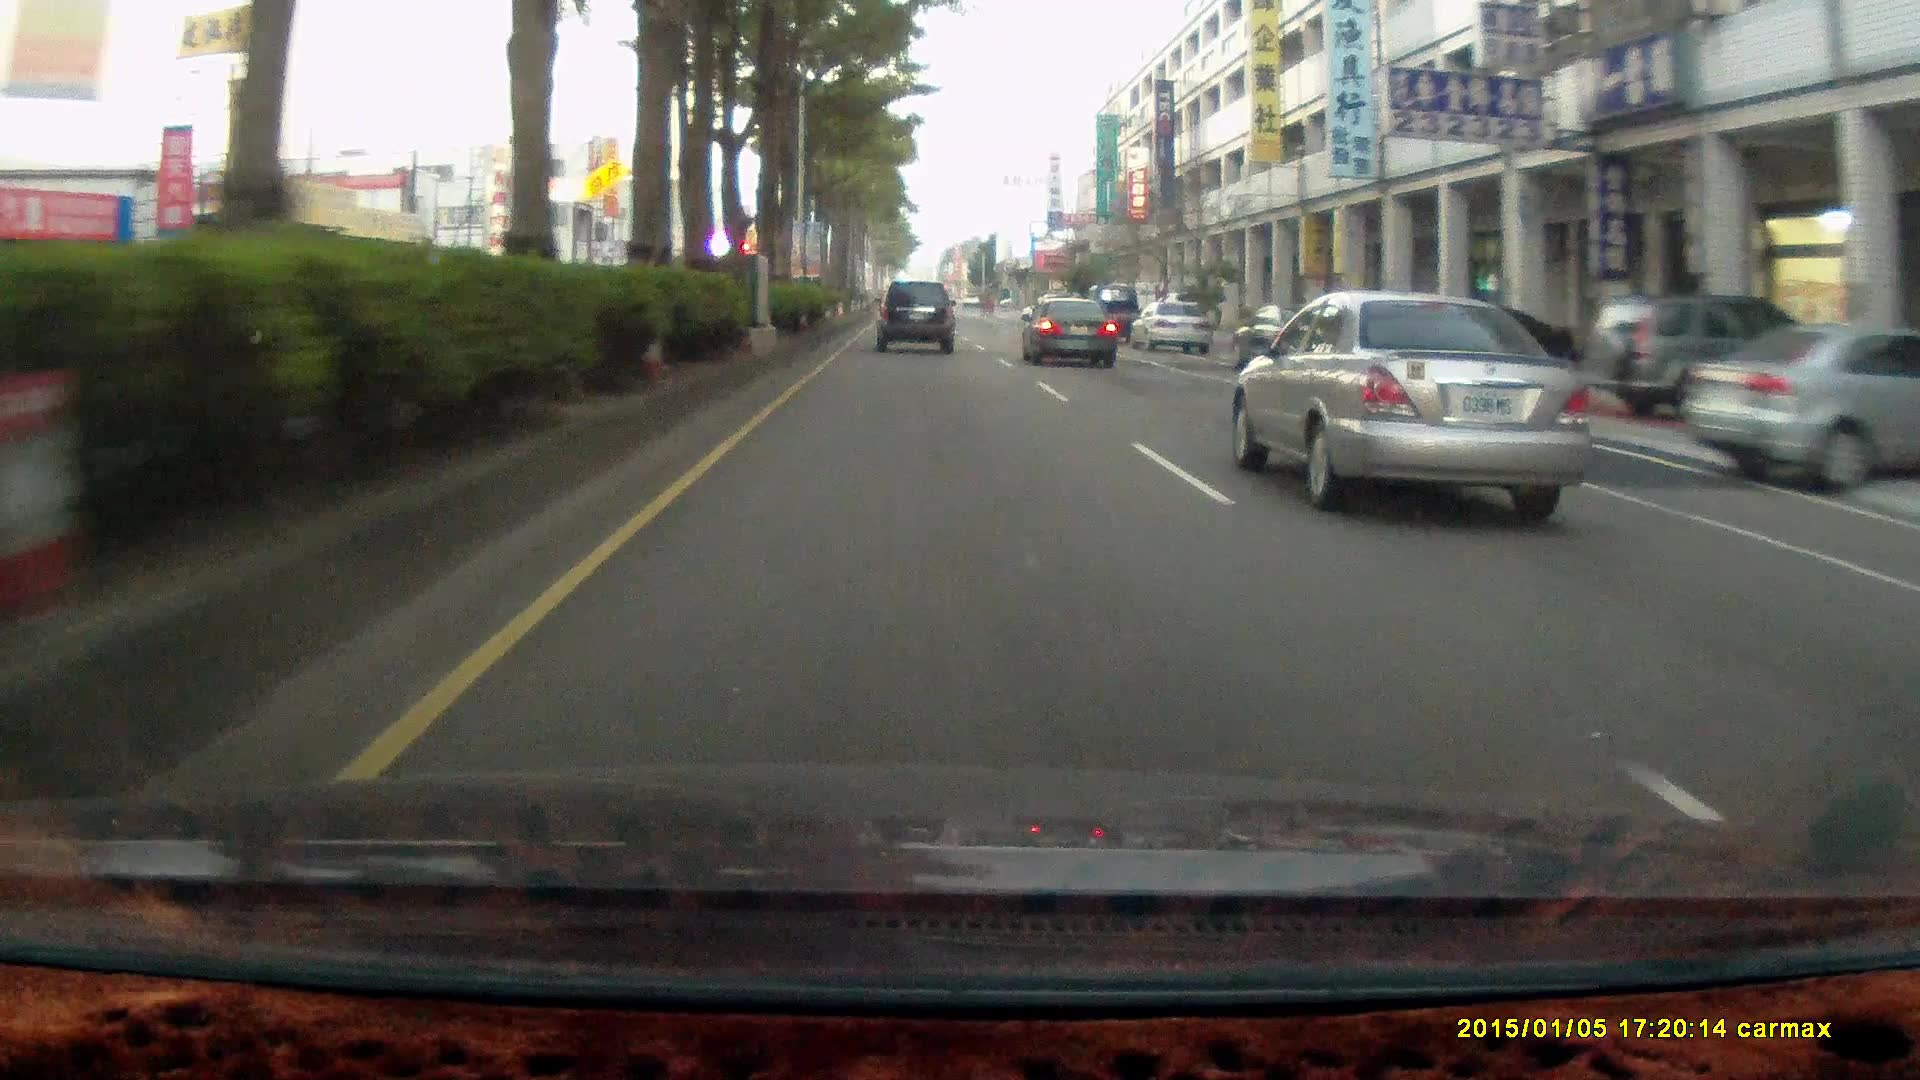vehicle: (1226, 286, 1605, 516), (1684, 327, 1920, 497), (1683, 326, 1919, 496), (1588, 295, 1824, 425), (1586, 295, 1818, 426), (1230, 297, 1367, 375), (1018, 294, 1116, 368), (1022, 297, 1122, 368), (876, 280, 959, 356), (873, 278, 956, 349), (1127, 299, 1213, 353), (1137, 302, 1215, 353), (1084, 284, 1145, 342)
